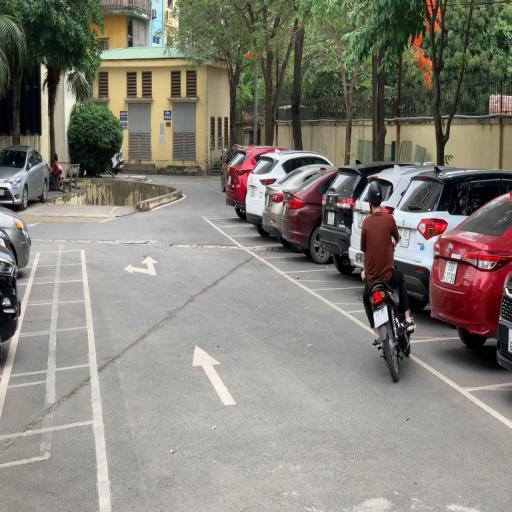bike: (360, 180, 417, 384)
numberplate: (373, 304, 389, 328)
with helmet: (367, 180, 383, 204)
